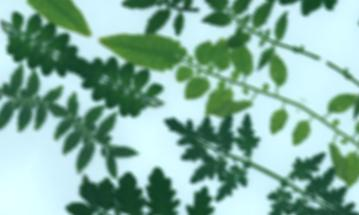Tomato leaf: (93, 7, 190, 87), (171, 63, 222, 115), (213, 84, 258, 131), (256, 100, 298, 147), (198, 78, 238, 122), (256, 52, 297, 94), (221, 40, 263, 78), (200, 35, 235, 74), (185, 34, 220, 72)
